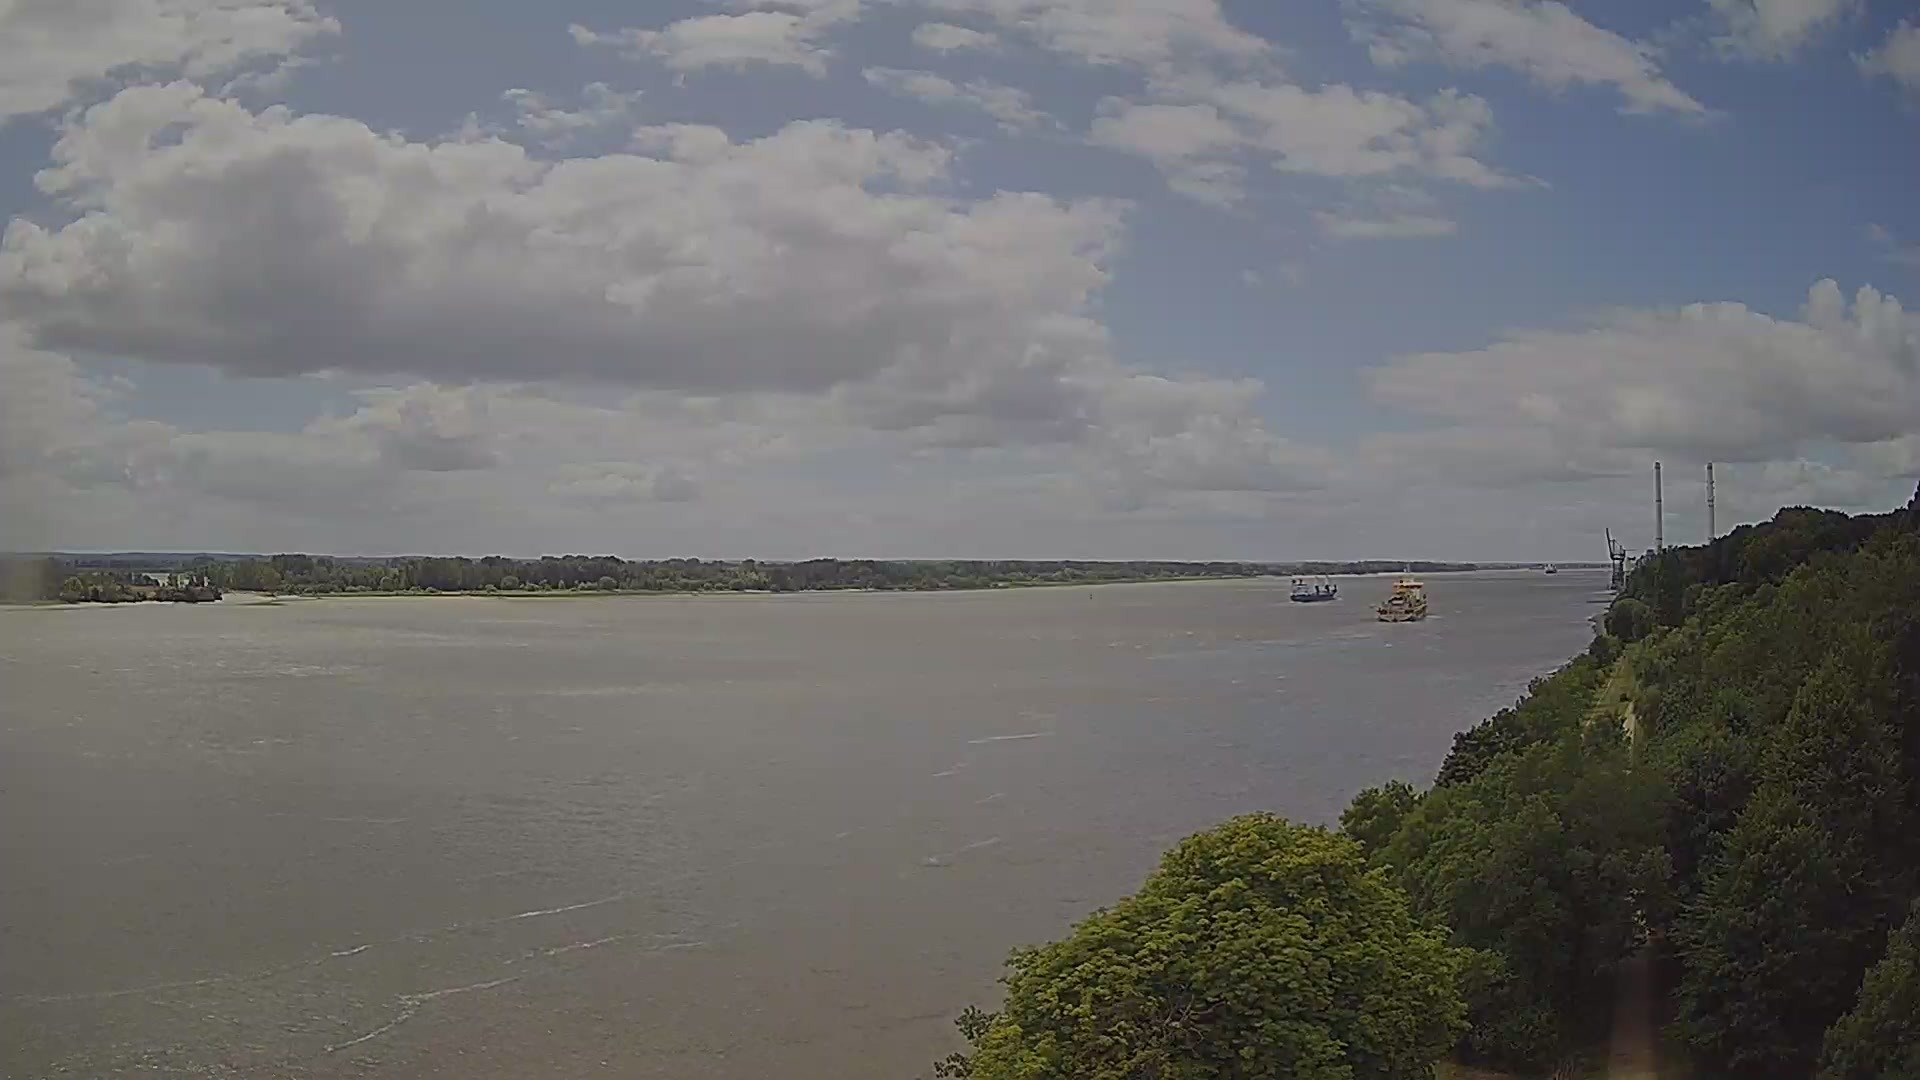sea: (1375, 560, 1428, 622), (1288, 571, 1338, 604), (1544, 562, 1557, 575)
